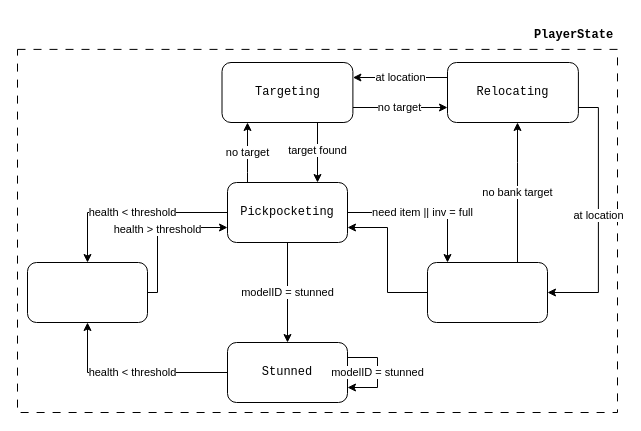
Some shapes in this 641 by 431 pixel diagram are drawn without their labels. Each missing label, with the centre of its shape:
Banking: the point at 487,292
Eating: the point at 87,292
